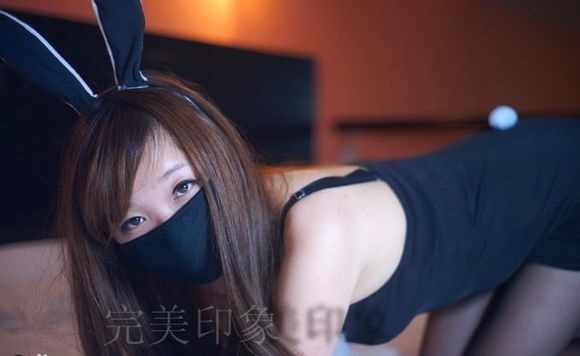face_mask: (93, 119, 228, 282)
